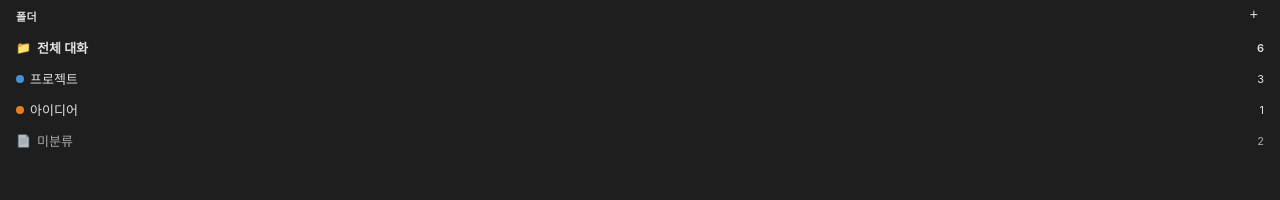
Test case: ConversationFolders › shows create input when create button is clicked
Click the button named "새 폴더 만들기".
click(1254, 14)  # box x1=1244 y1=5 x2=1264 y2=23
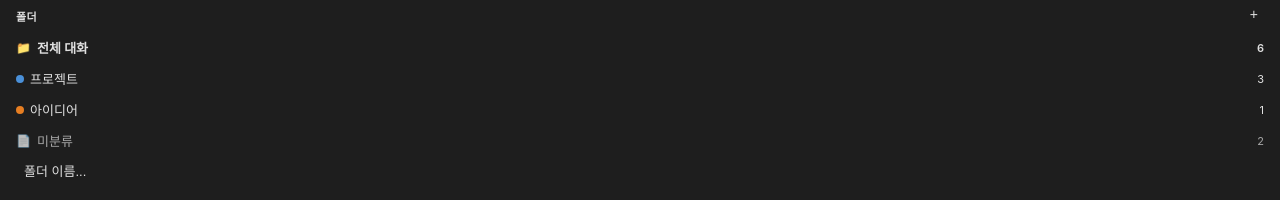
expect the field with placeholder "폴더 이름..." is shown: met, box x1=16 y1=160 x2=1264 y2=183
